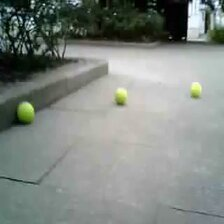tennis: (16, 100, 35, 122), (115, 89, 129, 104), (189, 82, 201, 96)
